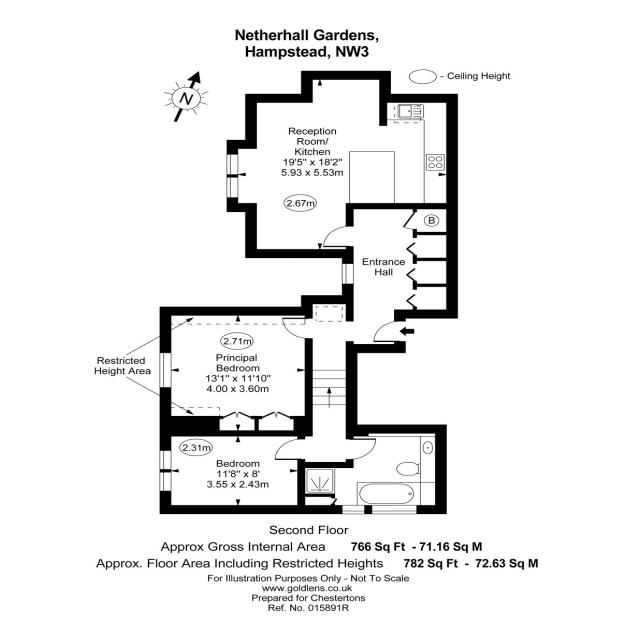DOOR: (373, 320, 406, 343), (323, 225, 354, 248), (346, 438, 377, 460), (274, 438, 305, 460), (282, 317, 313, 339)
ROOM: (226, 71, 458, 258), (159, 306, 313, 437), (159, 430, 313, 514)
WINDOW: (159, 352, 172, 388), (371, 505, 417, 514), (341, 263, 354, 284), (226, 154, 239, 175), (226, 177, 239, 198), (159, 450, 172, 470), (159, 472, 172, 491), (342, 505, 365, 514)
